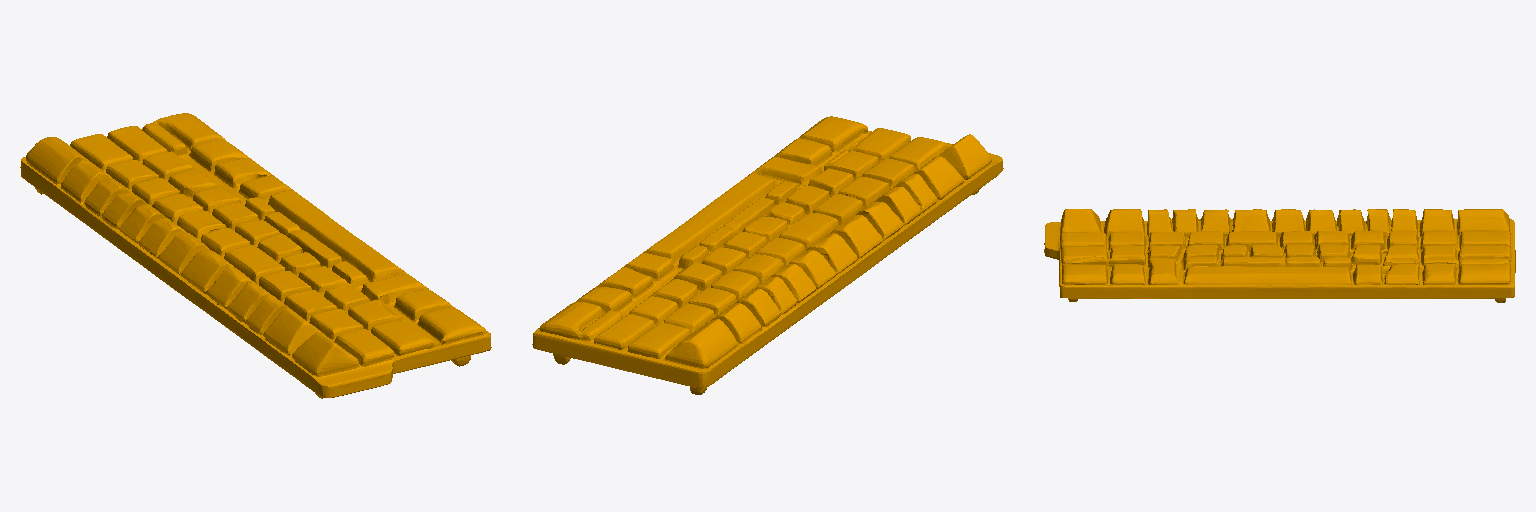
URDF robot description (sample):
<?xml version="1.0" ?>
<robot name="sample">
   <link name="sample">
      <visual>
         <origin xyz="0 0 0" rpy="1.5708 0.0 0.0"/>
         <geometry>
            <mesh filename="mesh/sample.obj" scale="1.0 1.0 1.0"/>
         </geometry>
      </visual>
      <collision>
         <origin xyz="0 0 0" rpy="1.5708 0.0 0.0"/>
         <geometry>
            <mesh filename="mesh/sample_collision.obj" scale="1.0 1.0 1.0"/>
         </geometry>
         <gazebo>
            <mu1>0.70</mu1>
            <mu2>0.55</mu2>
         </gazebo>
      </collision>
      <inertial>
         <mass value="1.2500"/>
         <origin xyz="0 0 0"/>
         <inertia ixx="1.0" ixy="0.0" ixz="0.0" iyy="1.0" iyz="0.0" izz="1.0"/>
      </inertial>
      <extra_info>
         <scale>0.486507</scale>
         <version>v0.1.7</version>
         <category>keyboard</category>
         <description>pink mechanical keyboard with raised keys</description>
         <min_height>0.04</min_height>
         <max_height>0.06</max_height>
         <real_height>0.05</real_height>
         <min_mass>1.0</min_mass>
         <max_mass>1.5</max_mass>
         <generate_time>20260401150020</generate_time>
         <gs_model>mesh/sample_gs.ply</gs_model>
      </extra_info>
   </link>
   <custom_data>
      <quality>
         <MeshGeoChecker>YES</MeshGeoChecker>
         <ImageSegChecker>NO, object is not centered and background artifacts remain.</ImageSegChecker>
         <ImageAestheticChecker>4.352730393409729</ImageAestheticChecker>
         <overall>NO</overall>
      </quality>
   </custom_data>
</robot>

--- Render facts (derived) ---
The picture shows the robot from 3 angles, left to right: view 1: azimuth 30°, elevation 25°; view 2: azimuth 150°, elevation 25°; view 3: azimuth 270°, elevation 25°; orthographic projection.
Model sample with 1 links and 0 joints (none), rooted at sample, posed every joint at zero.
Links seen in each view (by area): view 1: sample; view 2: sample; view 3: sample.
Link boxes in pixels (left/top/right/bottom): sample: left=20, top=113, right=491, bottom=398; sample: left=532, top=116, right=1003, bottom=394; sample: left=1044, top=209, right=1515, bottom=302.
Size in the robot's own frame: 0.1625 by 0.4865 by 0.05 metres.
Meshes: 1 distinct files referenced, 1 mesh visuals loaded (1 OBJ).
